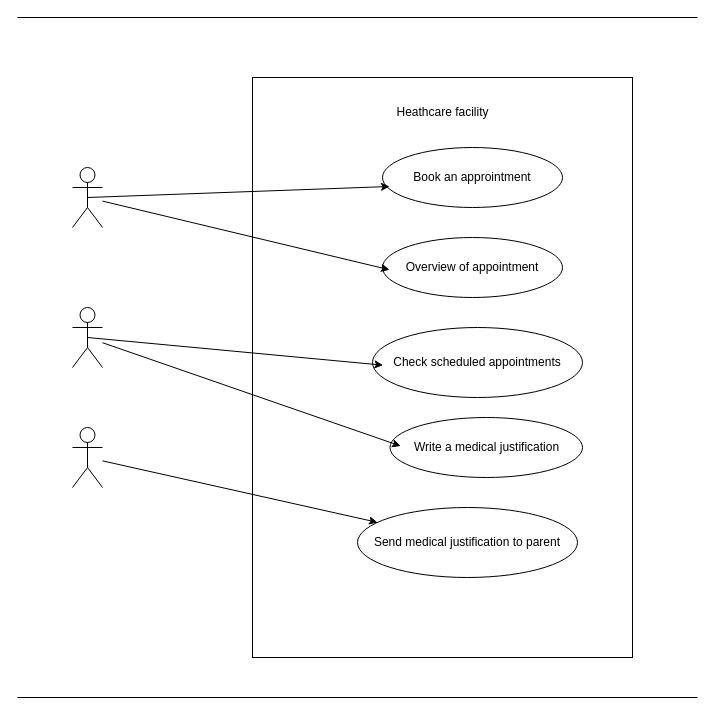
The diagram is 716 pixels wide and 716 high, and some of its shapes have lost their labels. The centre of each missing label's shape, as x and y in pixels:
"Doctor" goes at [87,337].
"Patient" goes at [87,197].
"System" goes at [87,457].
